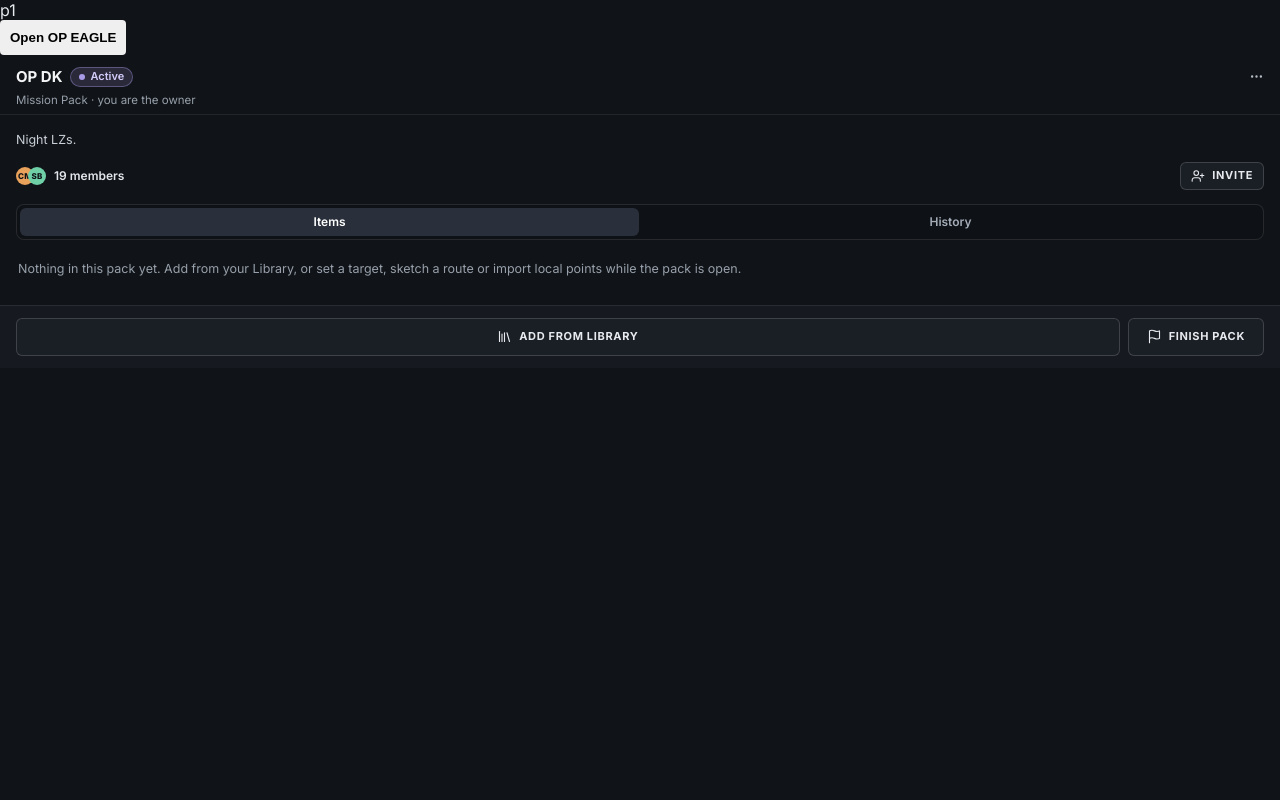
Test case: deleting the pack › says it is for everyone and cannot be undone, then deletes it and goes back to the Library
Click the button named "More actions for OP DK" at (1256, 76), box [1242, 62, 1270, 90]
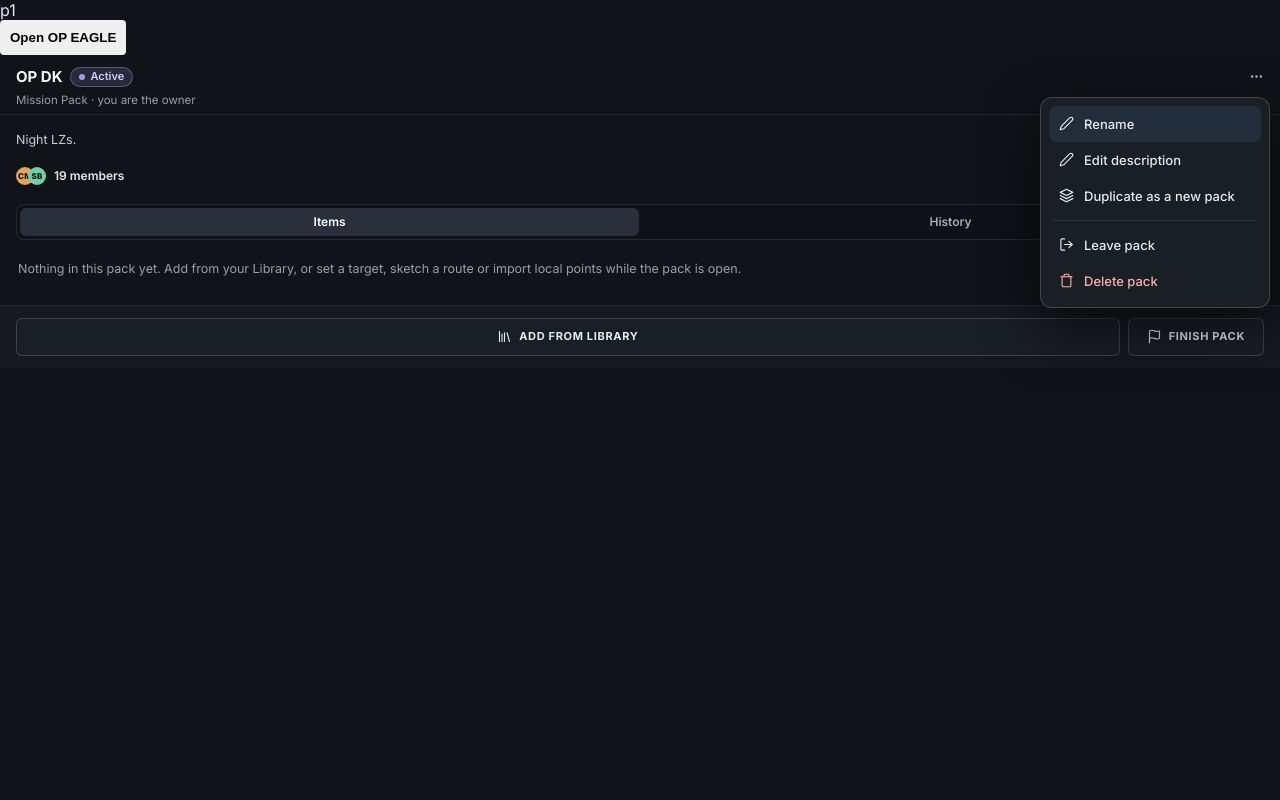
Click the menu item "Delete pack" at (1155, 280), box [1049, 262, 1261, 298]
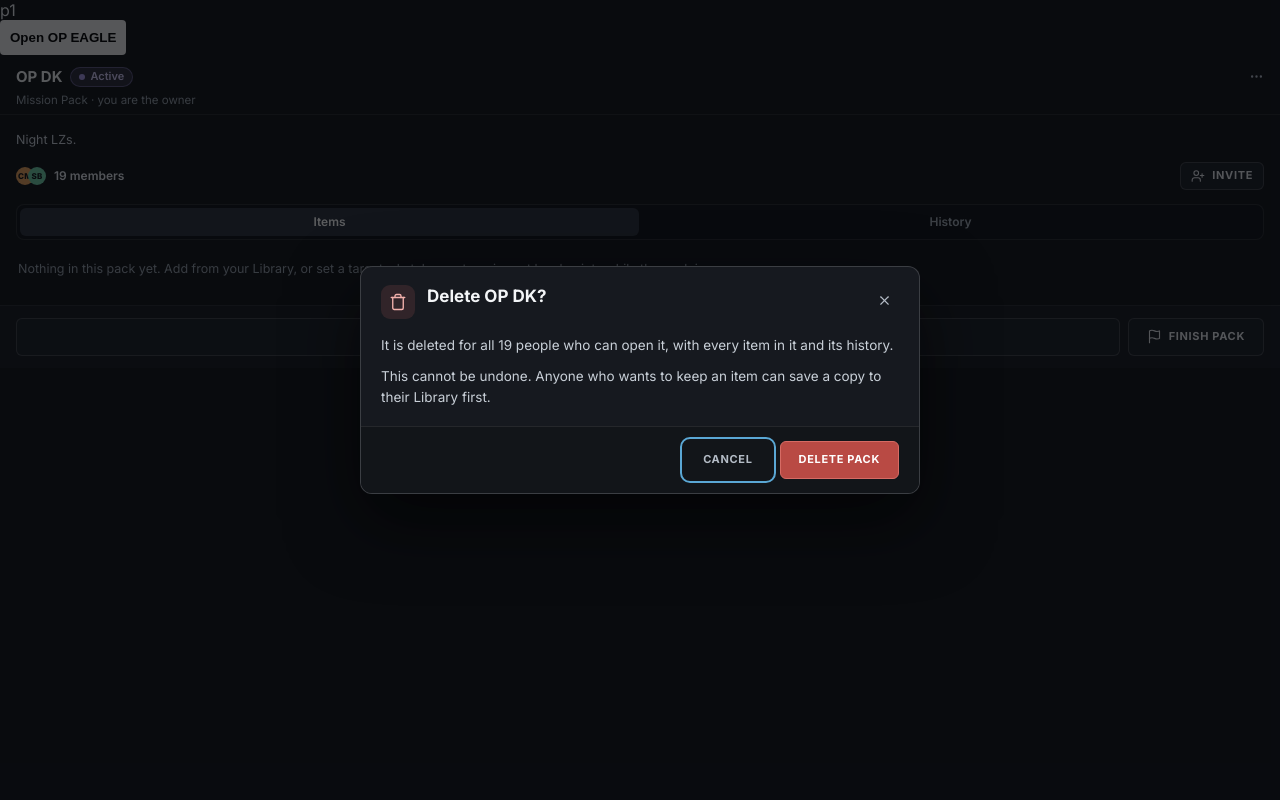
Result: the heading "Delete OP DK?" is shown at [427, 285, 546, 307]
Result: the text "It is deleted for all 19 people who can open it, with every item in it and its history." is shown at [381, 337, 893, 353]
Result: the text "This cannot be undone" is shown at [381, 368, 881, 405]
Click the button "Delete pack" at (839, 460), box [780, 441, 899, 479]
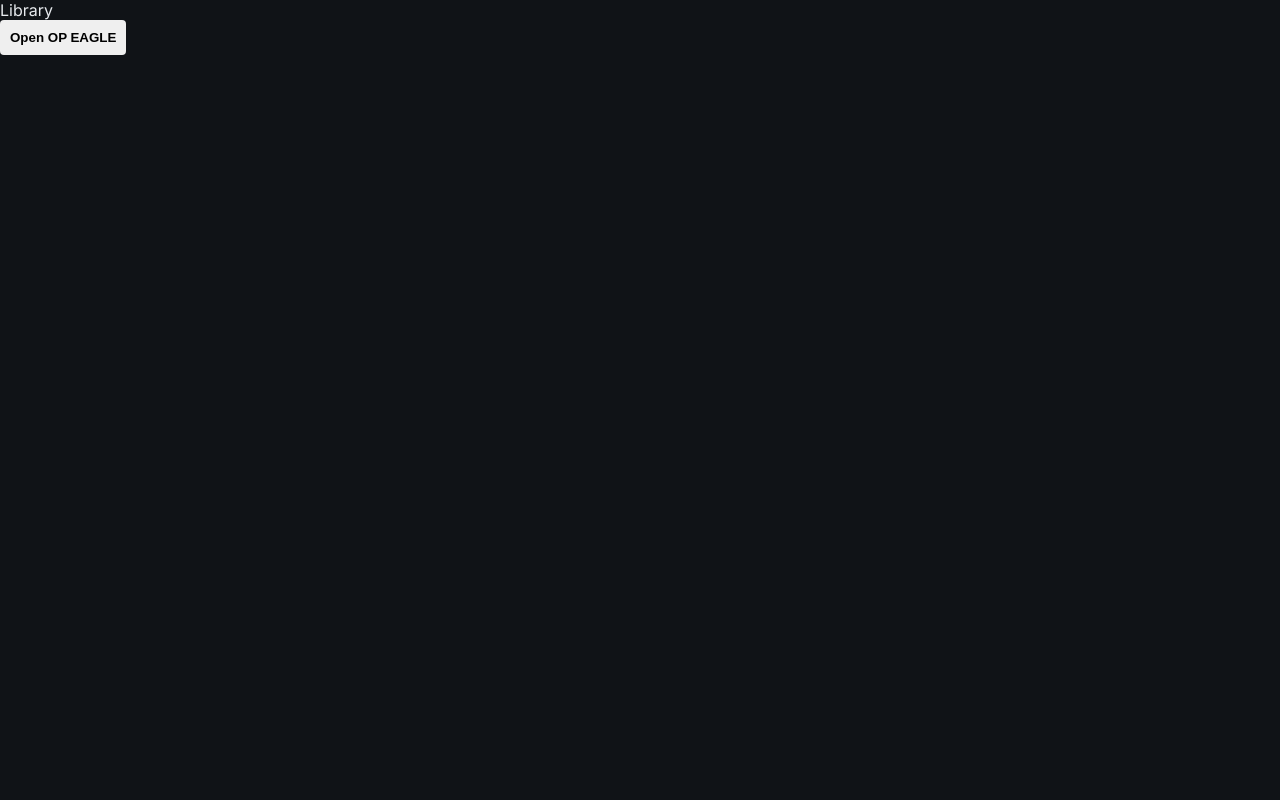
Result: the text with test id "workspace" reads "Library" at [0, 0, 53, 20]
